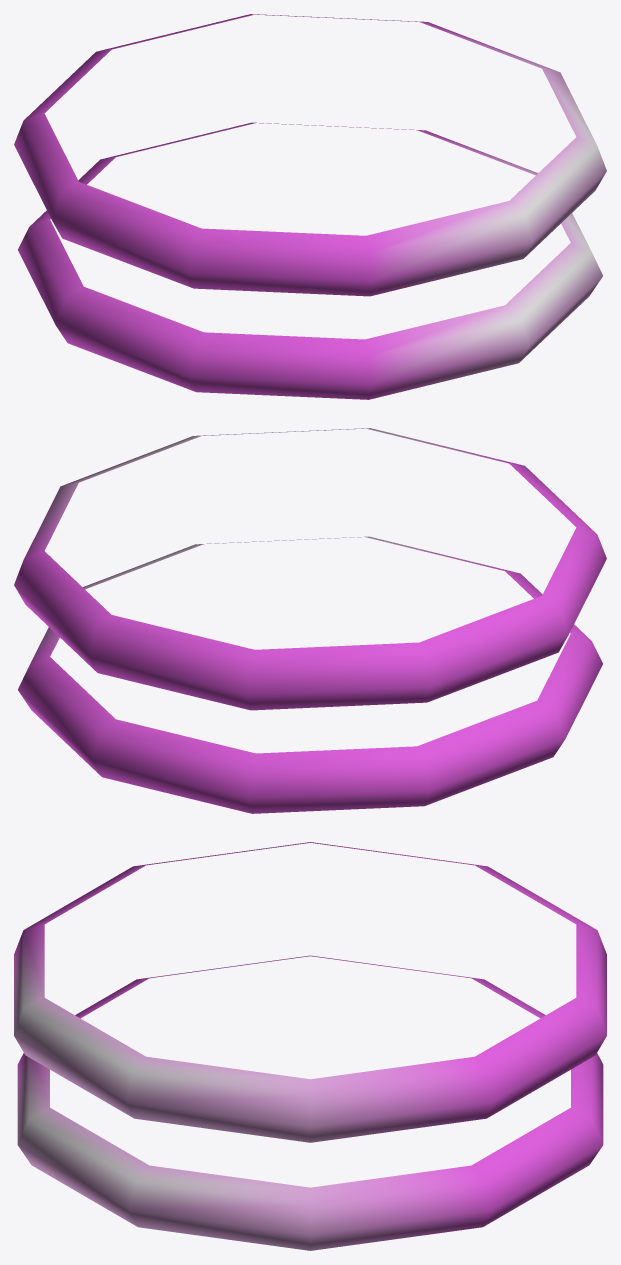
The model's file is DJStagePillarNeonLights_0.glb.
The picture shows the model from 3 angles, top to bottom: view 1: azimuth 30°, elevation 25°; view 2: azimuth 150°, elevation 25°; view 3: azimuth 270°, elevation 25°; orthographic projection. The views are drawn at different scales.
Parts seen in each view (by area): view 1: DJStagePillarNeonLights; view 2: DJStagePillarNeonLights; view 3: DJStagePillarNeonLights.
Part boxes in pixels (x1,y1,x2,y2): DJStagePillarNeonLights: (14,14,606,399); DJStagePillarNeonLights: (14,428,606,813); DJStagePillarNeonLights: (14,842,606,1250).
Size of the model in its own units: 0.7495 by 0.229 by 0.7128.
